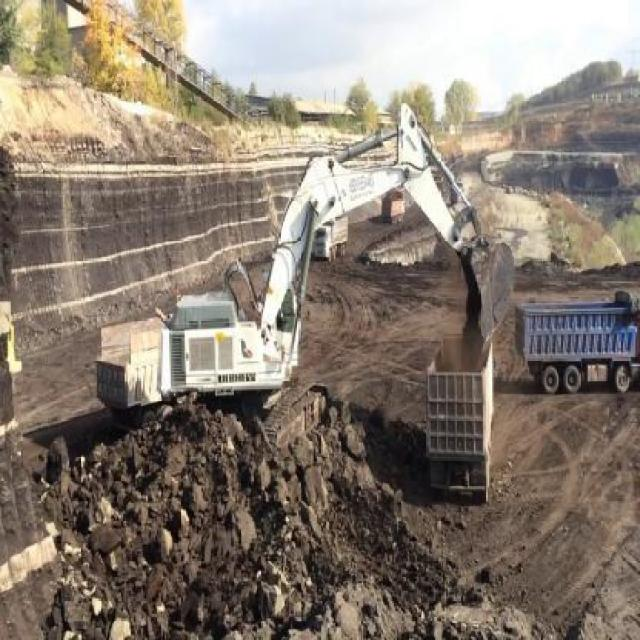Dump Truck: (518, 291, 638, 394), (428, 330, 495, 504), (94, 304, 169, 419), (318, 216, 347, 259), (381, 194, 405, 228)
Excavator: (152, 102, 516, 443)
